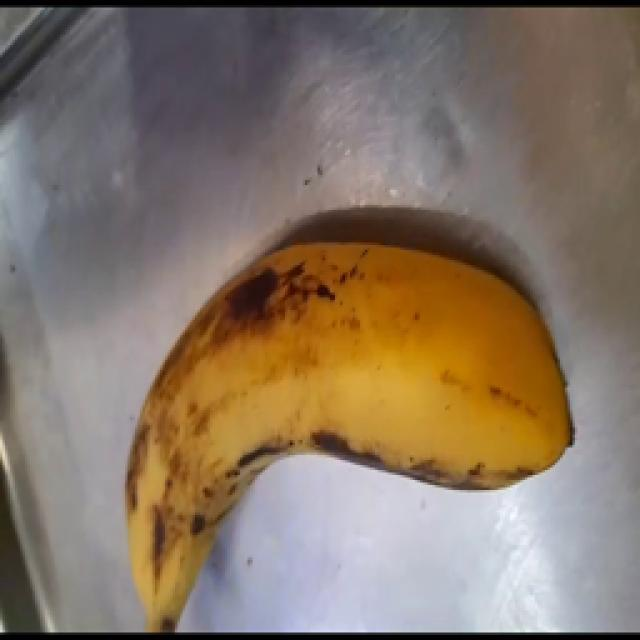Rotten_Banana: (135, 182, 586, 557)
